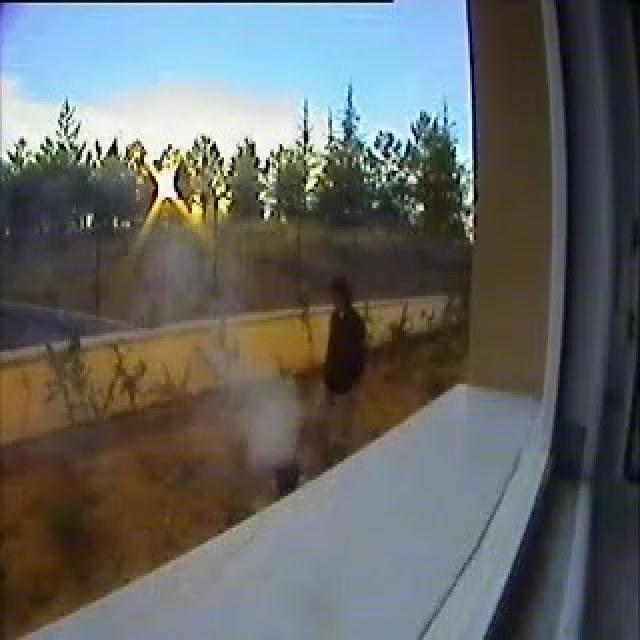smoke: (227, 360, 286, 457)
